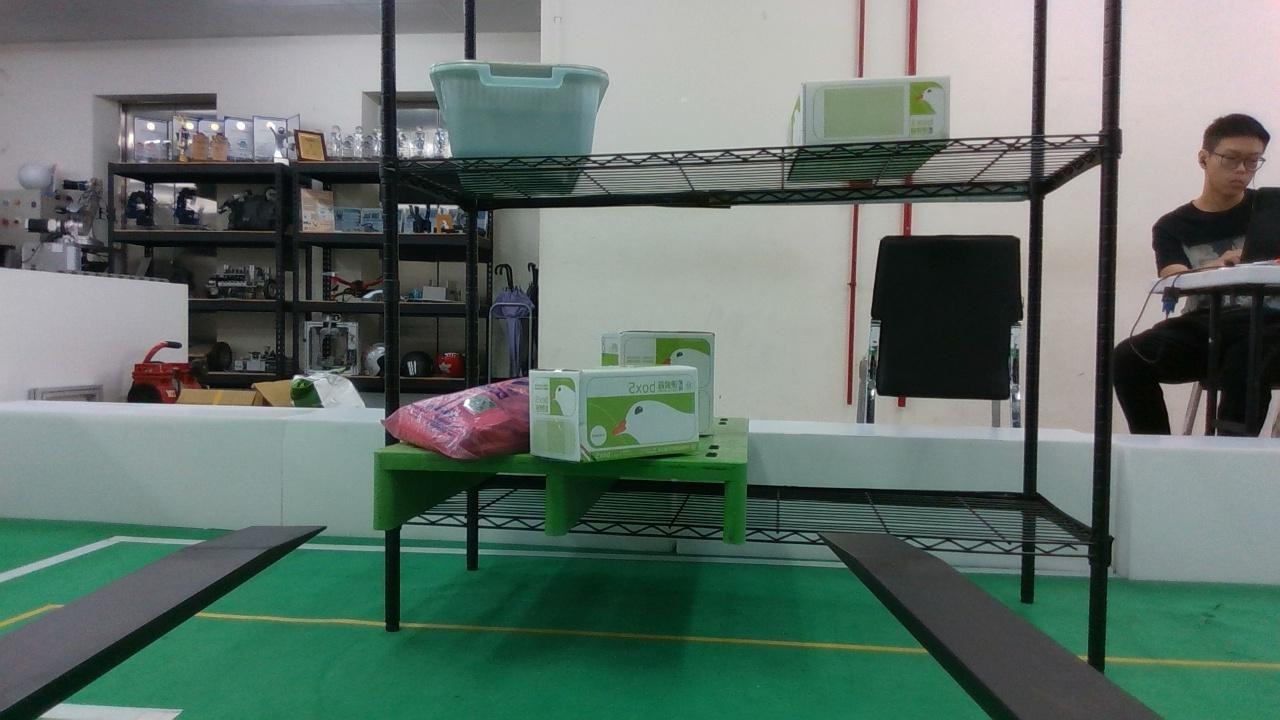Pallet: (370, 452, 743, 549)
